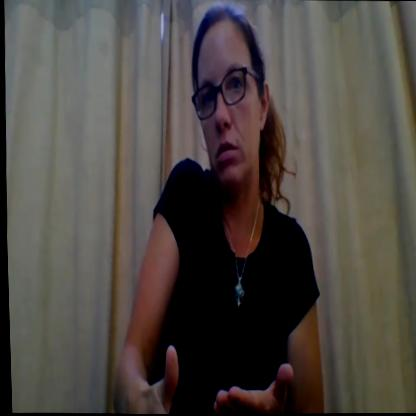Expensive: (112, 331, 299, 415)
